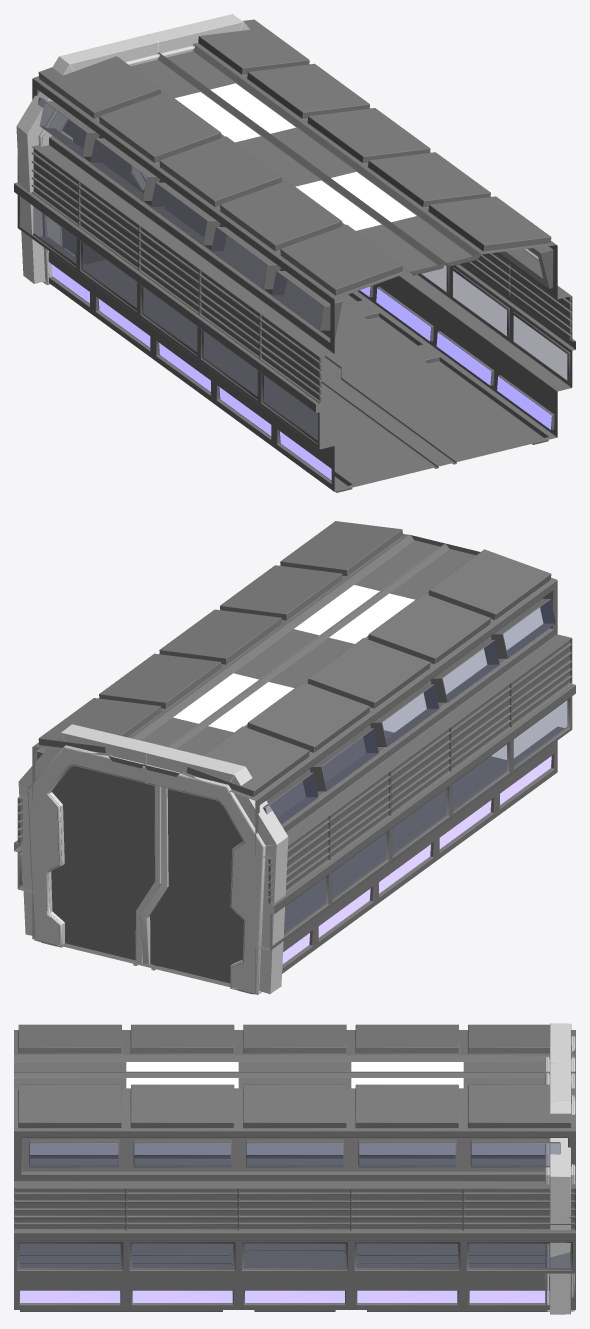
Rendered from hangar.glb.
3 renders of one model, top to bottom at view 1: azimuth 30°, elevation 25°; view 2: azimuth 150°, elevation 25°; view 3: azimuth 270°, elevation 25°, orthographic. The views are drawn at different scales.
Parts seen in each view (by area): view 1: Body, Floor, Win01, Frame, Win03, Light02, Light01, Extrude_1, Extrude_3; view 2: Body, Frame, Extrude_3, Extrude_1, Win03, Win01, Light02, Floor, Light01, Extrude_2, Extrude_4; view 3: Body, Win01, Floor, Win03, Frame, Light01, Light02.
Part boxes in pixels (<box>): Body: <box>14,19,575,491</box>; Floor: <box>86,235,556,492</box>; Win01: <box>33,207,566,440</box>; Frame: <box>16,14,249,284</box>; Win03: <box>38,98,538,329</box>; Light02: <box>175,83,416,230</box>; Light01: <box>48,262,551,480</box>; Extrude_1: <box>46,112,144,264</box>; Extrude_3: <box>142,176,207,235</box>; Body: <box>14,521,575,993</box>; Frame: <box>18,724,288,994</box>; Extrude_3: <box>50,764,154,960</box>; Extrude_1: <box>150,787,252,983</box>; Win03: <box>266,600,555,823</box>; Win01: <box>284,701,566,933</box>; Light02: <box>173,585,415,732</box>; Floor: <box>33,730,506,994</box>; Light01: <box>47,756,551,963</box>; Extrude_2: <box>140,786,168,964</box>; Extrude_4: <box>135,784,161,962</box>; Body: <box>14,1024,575,1309</box>; Win01: <box>20,1144,569,1267</box>; Floor: <box>19,1243,547,1311</box>; Win03: <box>30,1144,559,1166</box>; Frame: <box>545,1023,575,1314</box>; Light01: <box>20,1290,547,1302</box>; Light02: <box>126,1062,463,1088</box>.
Size of the model in its own units: 2.96 by 2.35 by 5.95.
